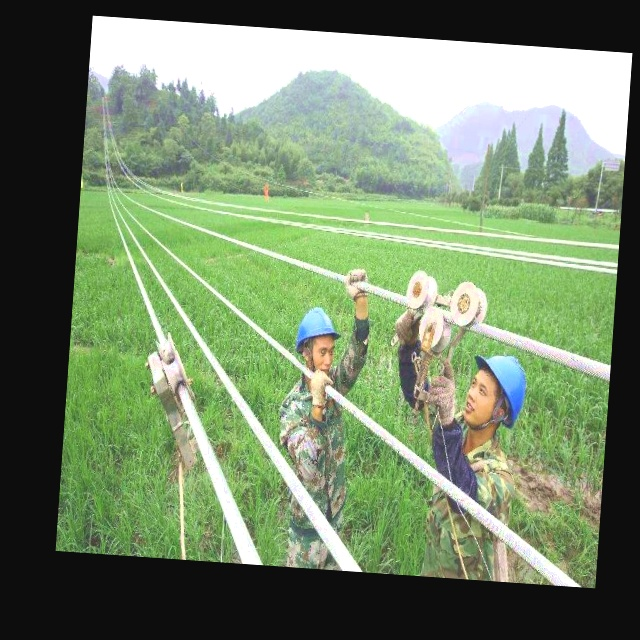Con_Casco: (462, 349, 530, 437), (295, 305, 340, 382)
